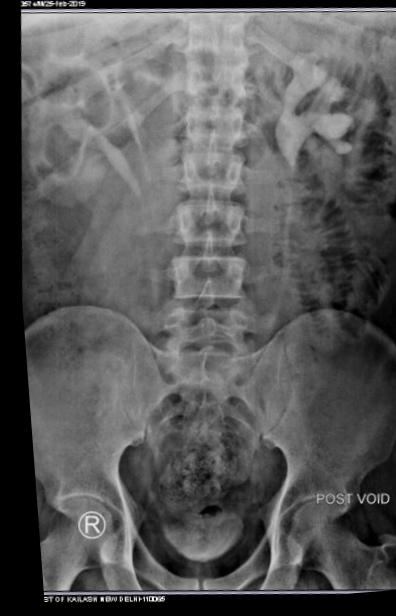bladder: (124, 484, 261, 591)
left kidney: (256, 26, 395, 219)
right kidney: (11, 37, 166, 229)
vertebrae: (177, 101, 254, 159)
